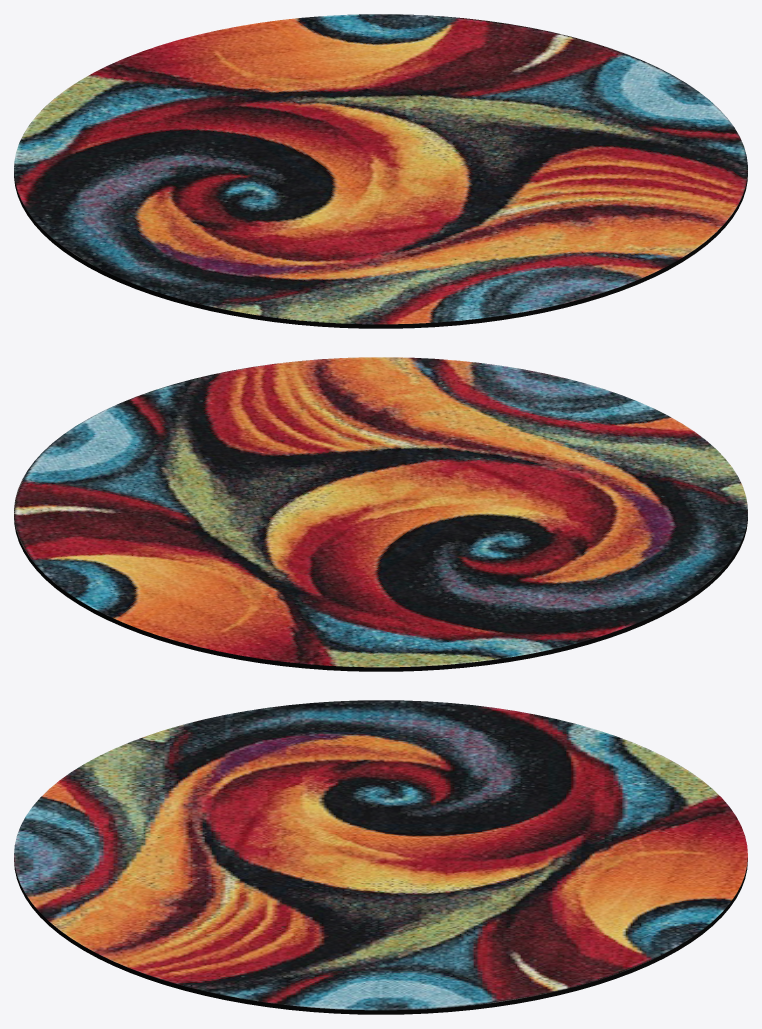
The model's file is carpet_3.glb.
The picture shows the model from 3 angles, top to bottom: view 1: azimuth 30°, elevation 25°; view 2: azimuth 150°, elevation 25°; view 3: azimuth 270°, elevation 25°; orthographic projection.
Parts seen in each view (by area): view 1: root; view 2: root; view 3: root.
Boxes of the visible parts, box(x1,y1,x2,y2) form: root: box(14, 14, 747, 328); root: box(14, 357, 747, 671); root: box(14, 700, 747, 1014).
Size of the model in its own units: 1.5 by 0.01 by 1.5.
3 materials, 1 textured.
